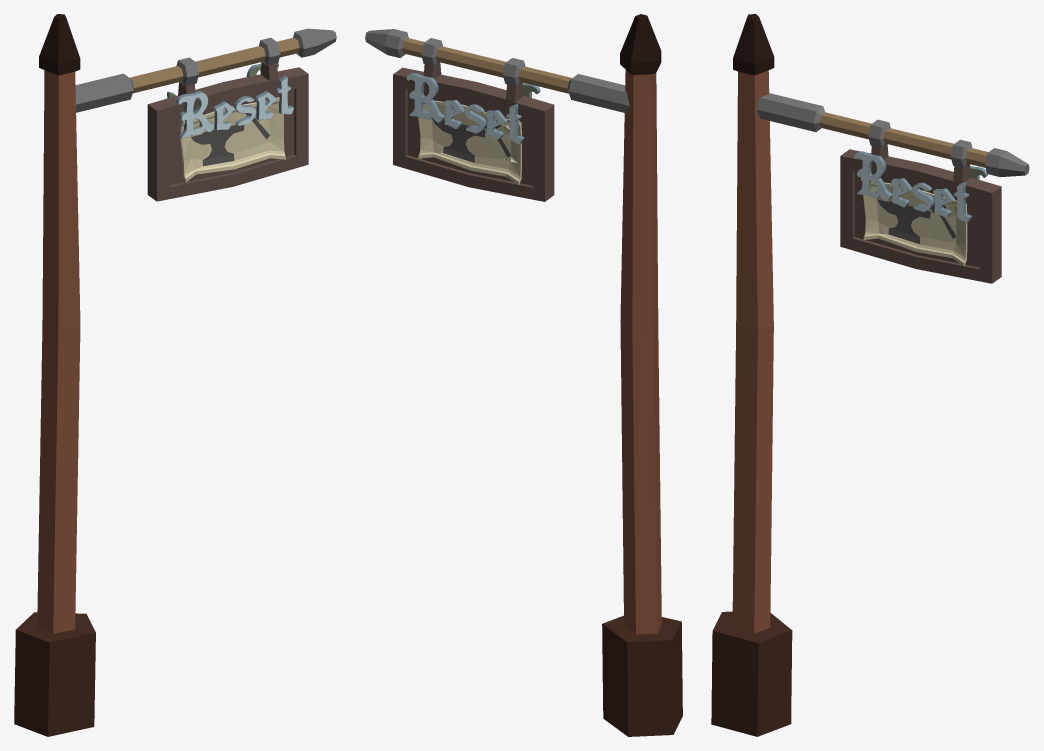
Rendered from GameSign.fbx.
3 renders of one model, left to right at view 1: azimuth 30°, elevation 25°; view 2: azimuth 150°, elevation 25°; view 3: azimuth 330°, elevation 25°, orthographic.
Visible parts, largest first — view 1: SM_Prop_ShopSign_01; view 2: SM_Prop_ShopSign_01; view 3: SM_Prop_ShopSign_01.
Part boxes in pixels (x1,y1,x2,y2): SM_Prop_ShopSign_01: (14,14,336,736); SM_Prop_ShopSign_01: (365,14,682,736); SM_Prop_ShopSign_01: (711,14,1029,736).
Bounding box in the file's own units: 217 × 467 × 42.61.
1 material, 1 textured.
